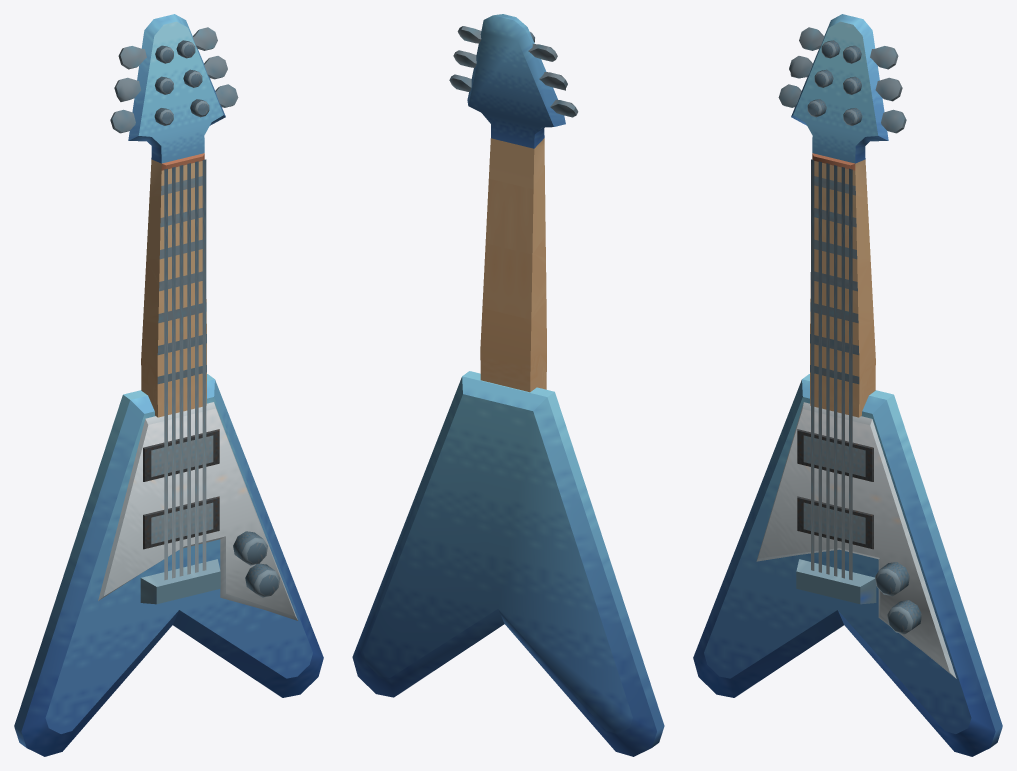
Rendered from guitar-a.glb.
3 views of the same model, side by side, from view 1: azimuth 30°, elevation 25°; view 2: azimuth 150°, elevation 25°; view 3: azimuth 330°, elevation 25° (orthographic).
Visible parts, largest first — view 1: guitar_A; view 2: guitar_A; view 3: guitar_A.
Part boxes in pixels (box(x1,y1,x2,y2)): guitar_A: box(14, 14, 323, 756); guitar_A: box(352, 14, 664, 756); guitar_A: box(693, 14, 1002, 756).
Bounding box in the file's own units: 0.8477 × 1.88 × 0.1704.
1 material, 1 textured.
